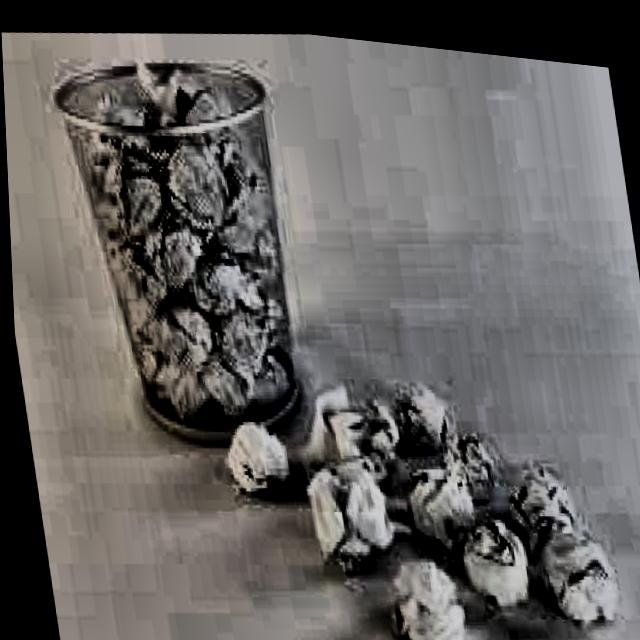Paper: (287, 439, 394, 572), (302, 370, 398, 472), (377, 536, 463, 640), (530, 513, 614, 613), (446, 495, 526, 597), (399, 447, 476, 548), (499, 441, 573, 546), (217, 410, 291, 495), (182, 232, 253, 316), (88, 85, 154, 174), (158, 137, 224, 226), (136, 210, 202, 296), (137, 46, 203, 124), (433, 410, 492, 493), (382, 365, 446, 441), (207, 289, 266, 371), (111, 161, 165, 243), (153, 293, 212, 365), (219, 146, 269, 230), (244, 338, 294, 407), (185, 81, 235, 149), (151, 359, 207, 419), (198, 353, 246, 417), (117, 266, 158, 328), (243, 211, 275, 278), (128, 319, 162, 371)
